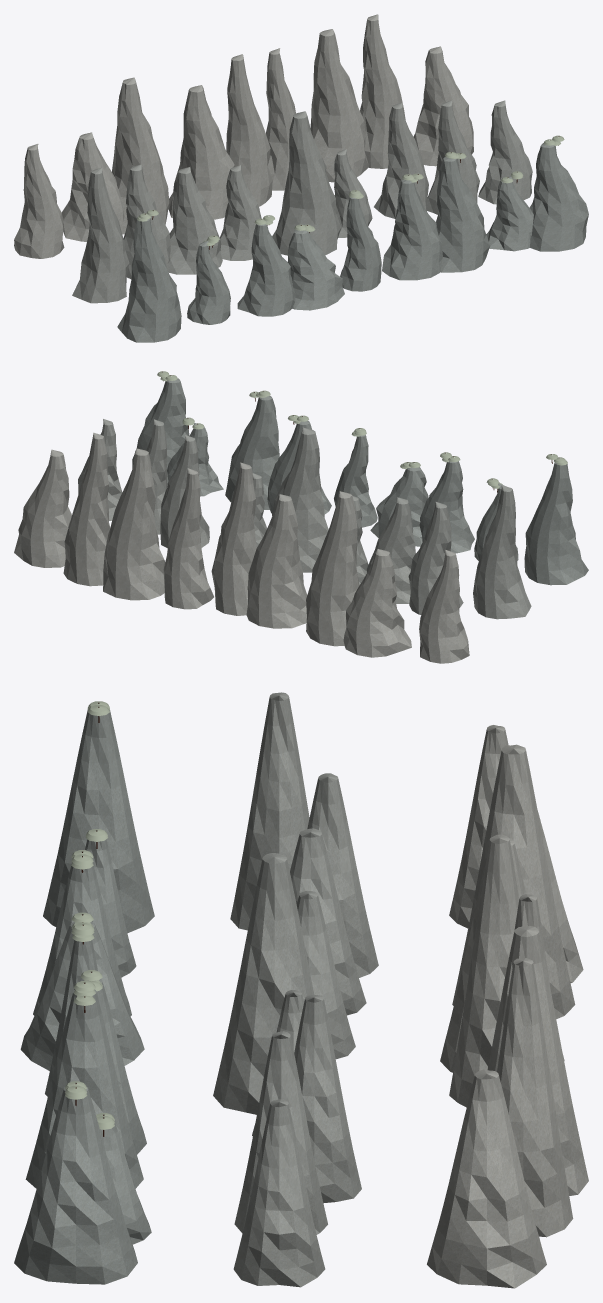
The model's file is mountains-detail.glb.
3 views of the same model, one above another, from view 1: azimuth 30°, elevation 25°; view 2: azimuth 150°, elevation 25°; view 3: azimuth 270°, elevation 25° (orthographic). The views are drawn at different scales.
Bounding box in the file's own units: 74.39 × 22.18 × 45.21.
Materials: 5 (4 with a texture image).
